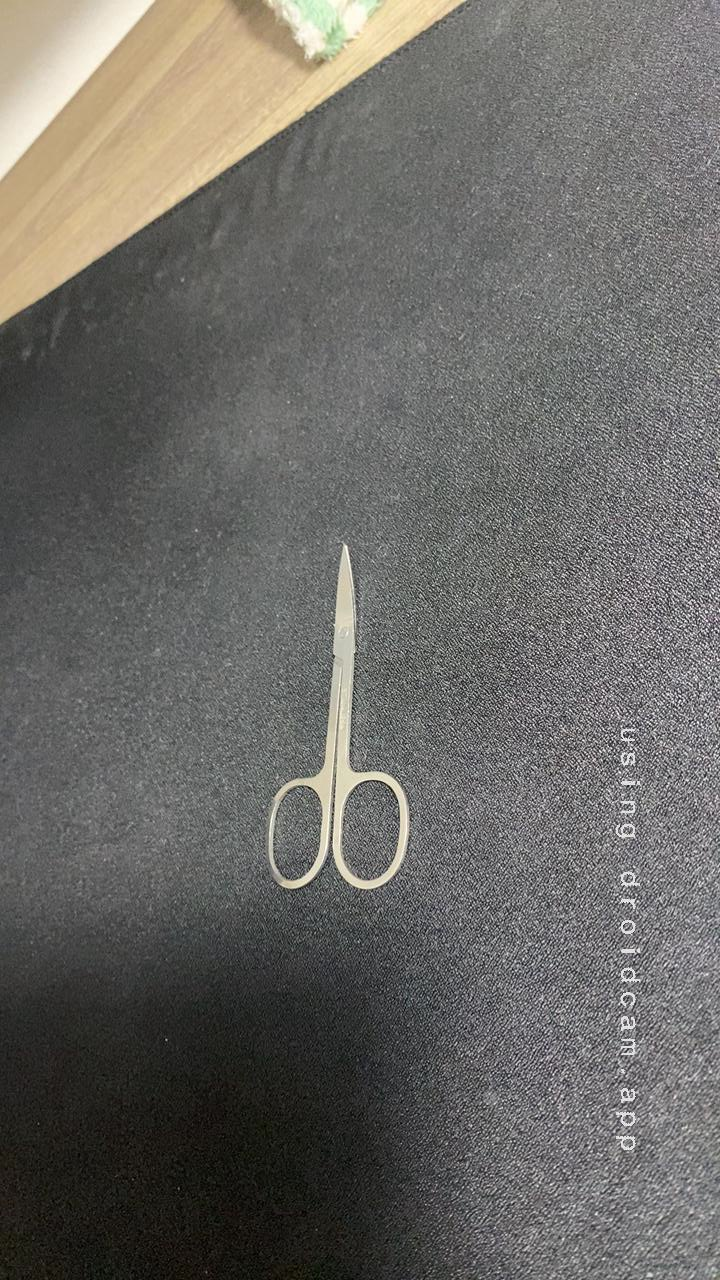scissor: (228, 546, 432, 911)
